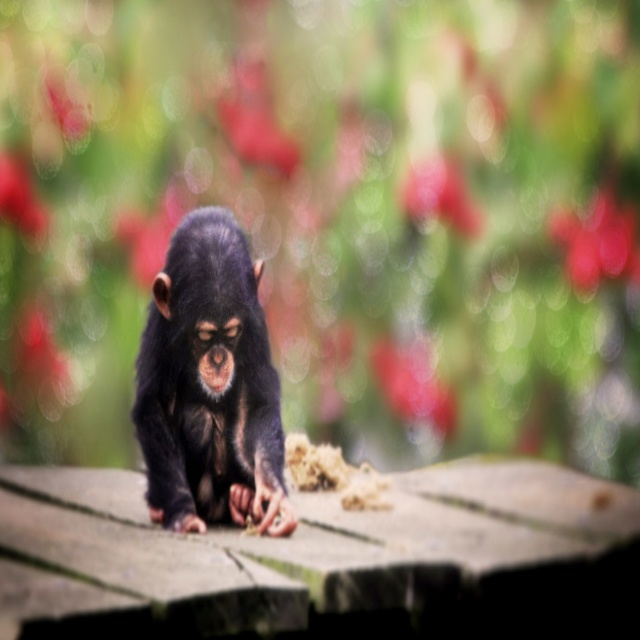Monkey: (132, 206, 300, 534)
